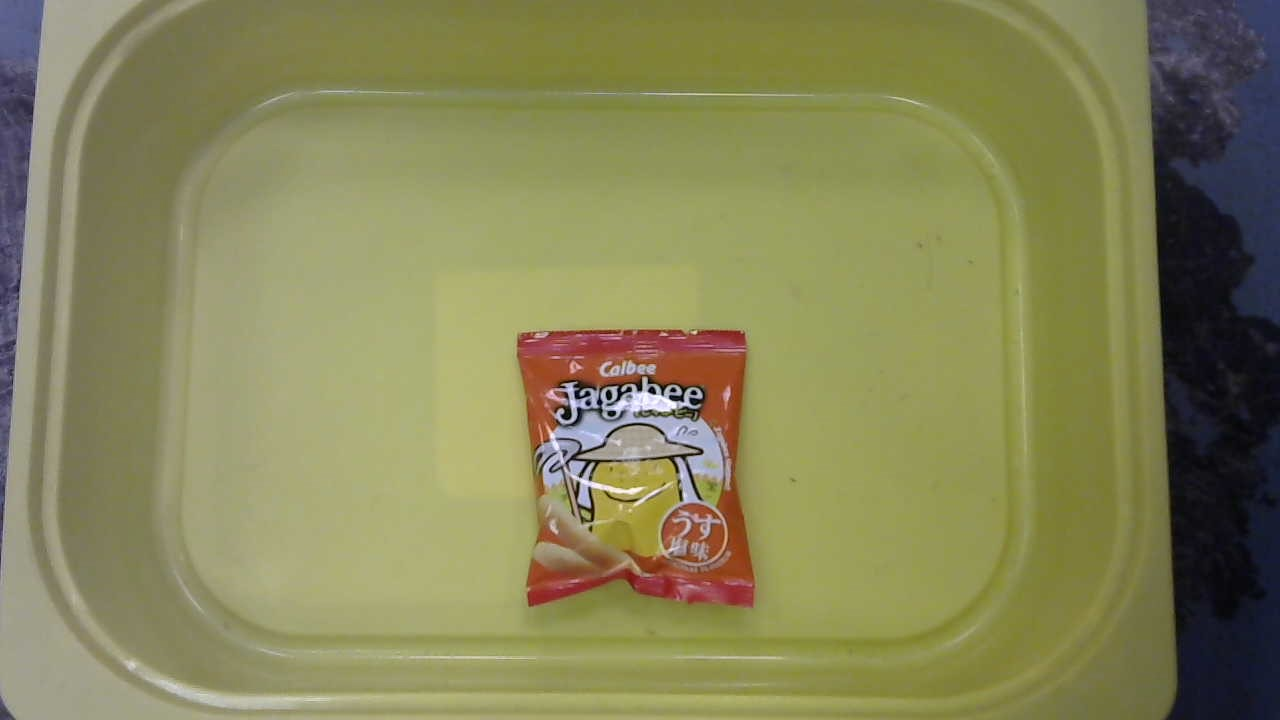JagabeeFarmer: (511, 323, 766, 615)
